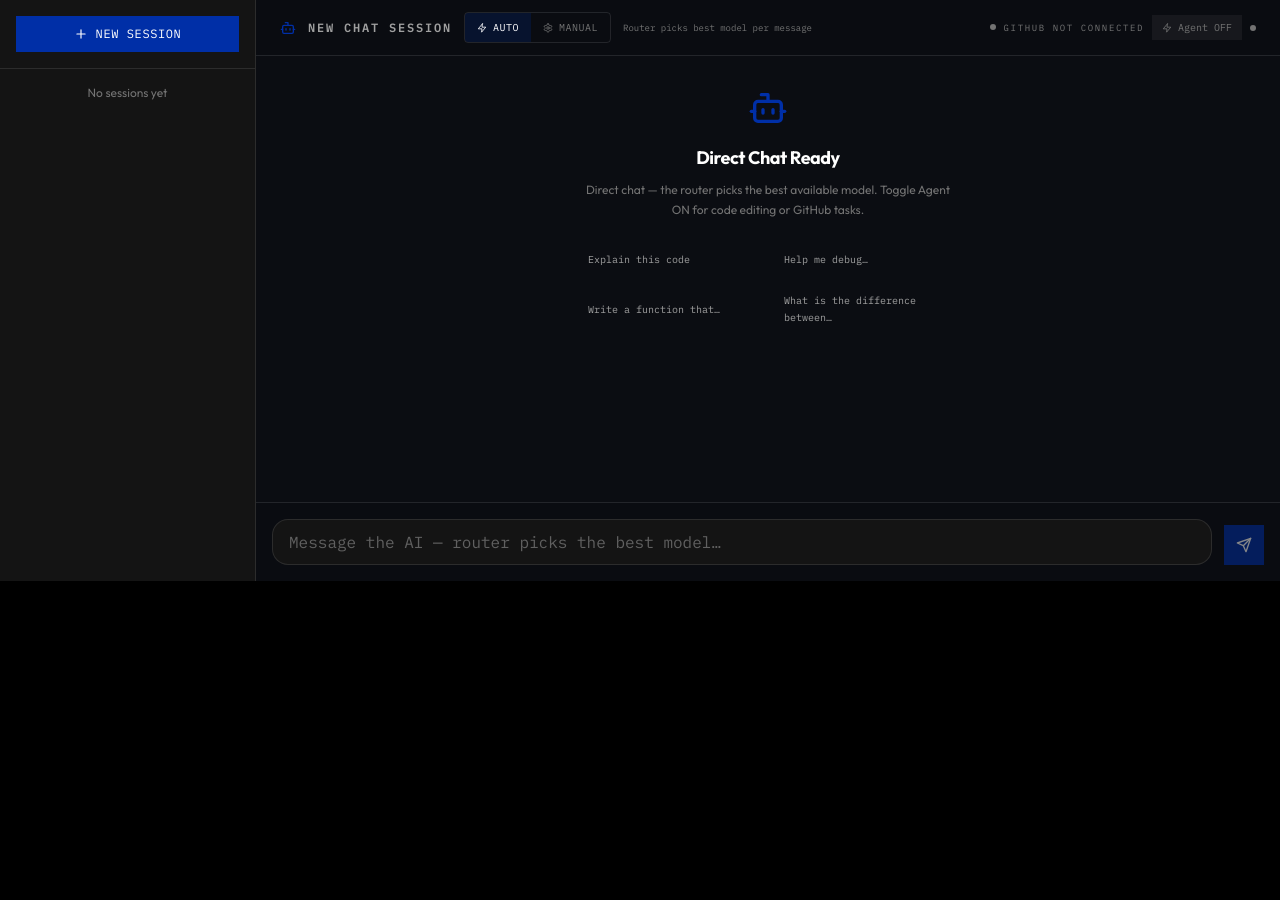
Test: shows a preflight banner before send for repo tasks in direct chat
Type "Clone my GitHub repo, run tests, and open a pull request." into the text box with test id "chat-input" at x=742, y=542, box [272,519,1212,565]
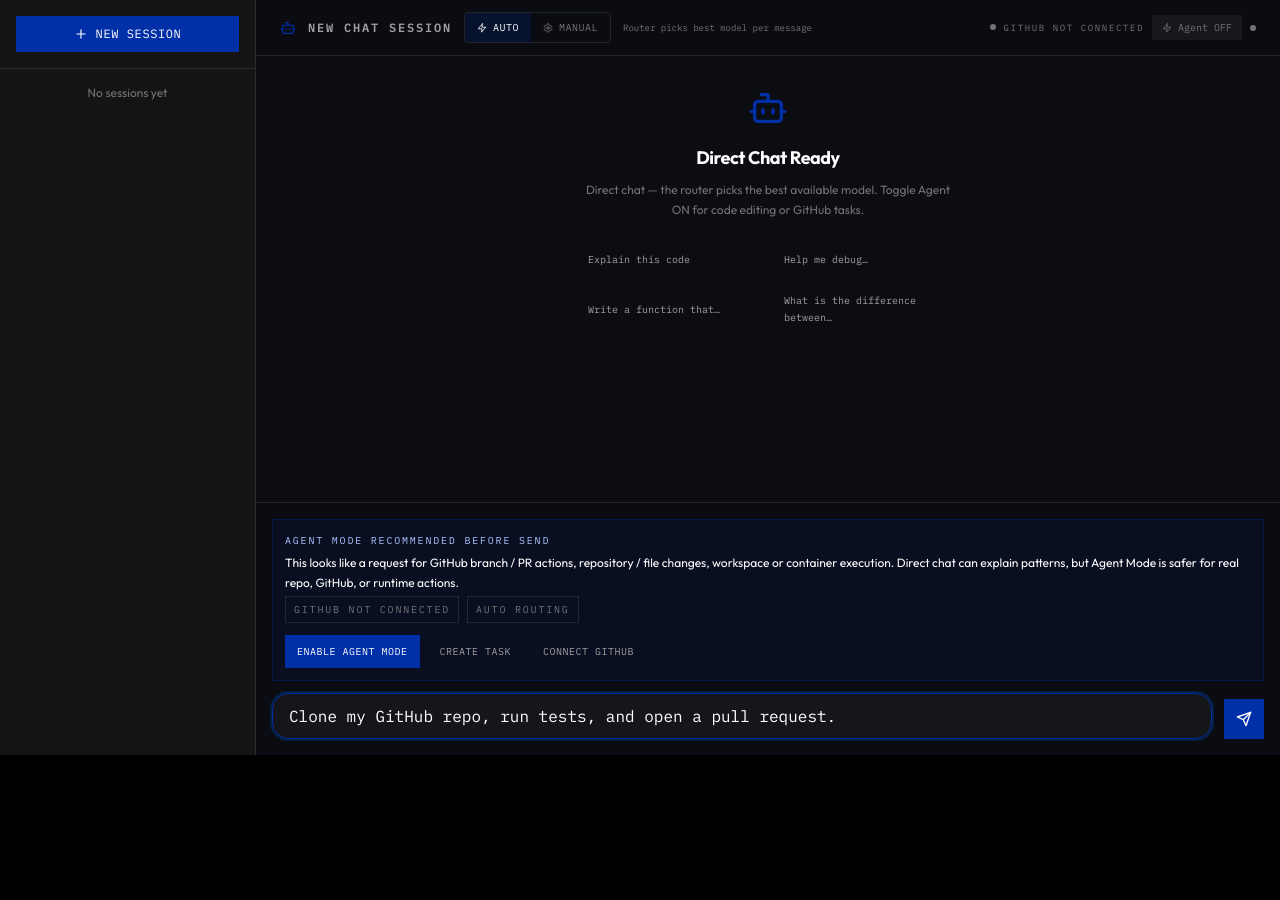
Expected: the element with test id "agent-mode-preflight-banner" is shown, [272,519,1264,681]
Expected: the text "Agent Mode recommended before send" is shown, [285,534,550,547]
Expected: the button with test id "preflight-open-settings-button" is shown, [531,635,646,668]
